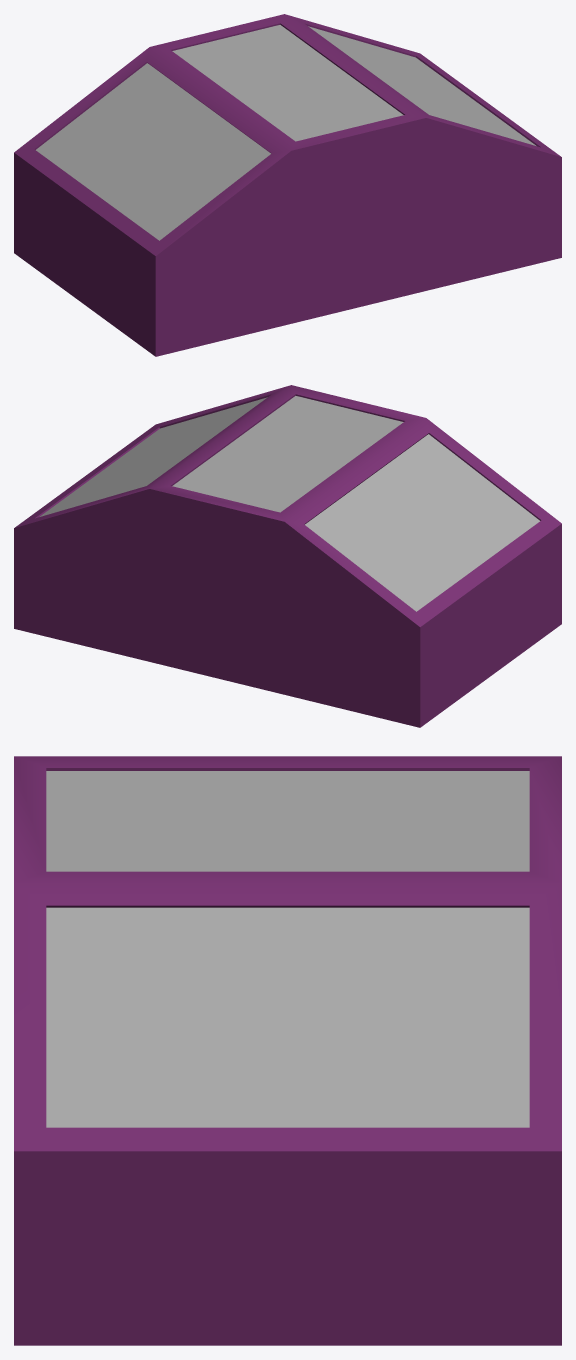
File: Cabinet.fbx
3 renders of one model, top to bottom at view 1: azimuth 30°, elevation 25°; view 2: azimuth 150°, elevation 25°; view 3: azimuth 270°, elevation 25°, orthographic. The views are drawn at different scales.
Parts seen in each view (by area): view 1: Cabinet, Windows; view 2: Cabinet, Windows; view 3: Cabinet, Windows.
Part boxes in pixels (x1,y1,x2,y2): Cabinet: (14, 14, 561, 356); Windows: (36, 25, 535, 240); Cabinet: (14, 385, 561, 727); Windows: (40, 396, 539, 611); Cabinet: (14, 756, 561, 1345); Windows: (46, 771, 529, 1127).
Bounding box in the file's own units: 97.96 × 39.88 × 59.23.
